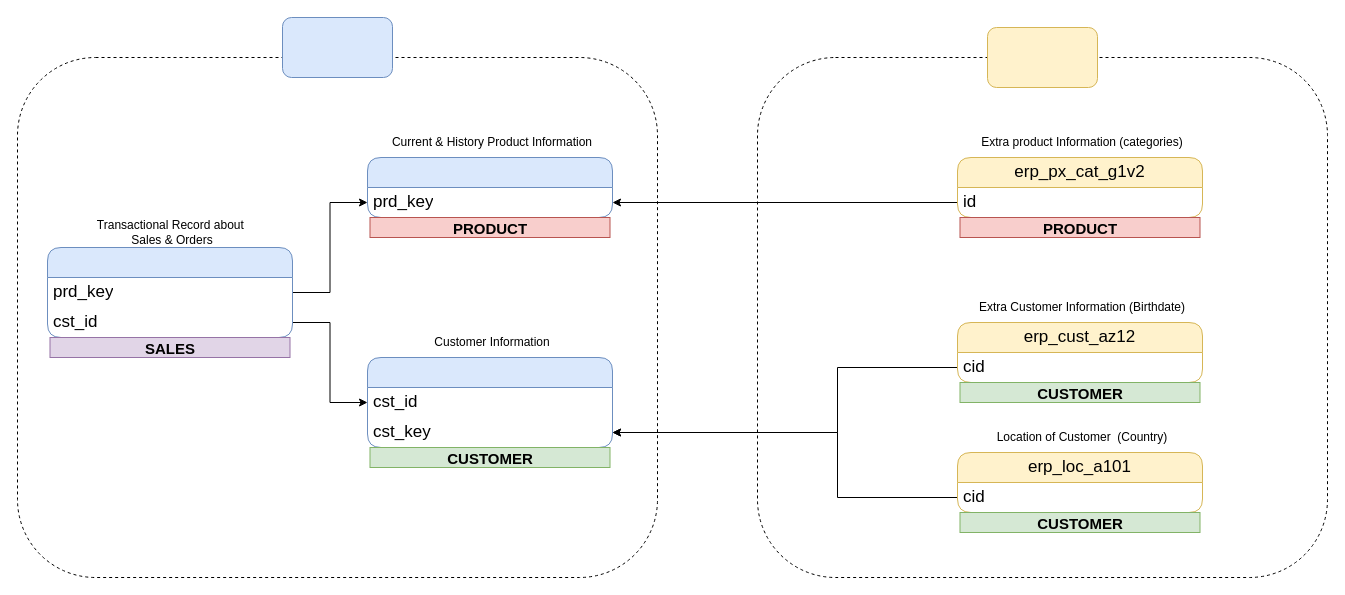
The diagram is 1345 pixels wide and 595 high, and some of its shapes have lost their labels. Here are the shapes that lost their labels. From the top down, the box of each, then its label:
(282, 16, 392, 78): CRM
(986, 26, 1098, 88): ERP
(366, 156, 612, 218): crm_prd_info
(46, 246, 292, 338): crm_sales_details
(366, 356, 612, 448): crm_cust_info
